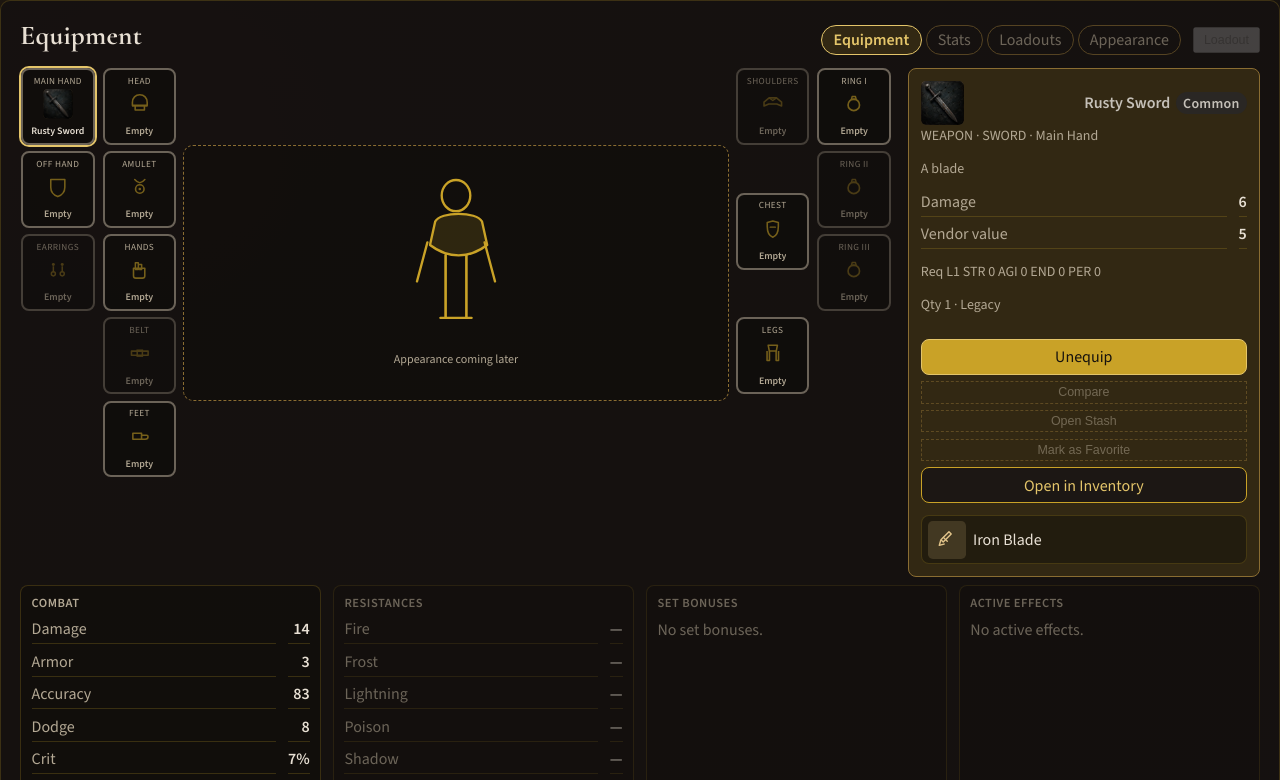
Scenario: EquipmentPanel › shows bag candidates and a locked inspector for future slots
Click the button with test id "equipment-candidate-IRON_BLADE": (947, 540) [921,515,1247,564]
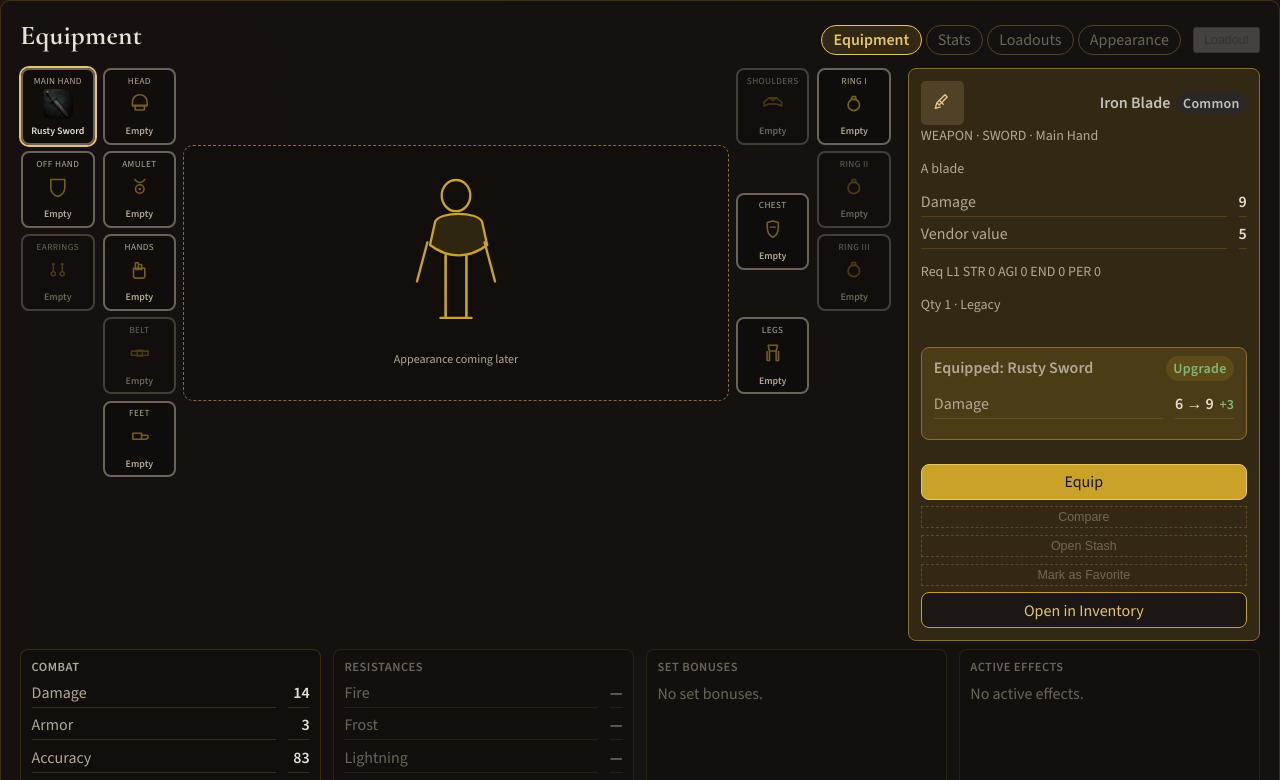
Result: the button with test id "equip-IRON_BLADE" is shown at [921,464,1247,500]
Result: the element with test id "comparison-IRON_BLADE" is shown at [921,347,1247,440]
Click the button with test id "equipment-slot-SHOULDERS": (773, 107) [736,68,809,145]
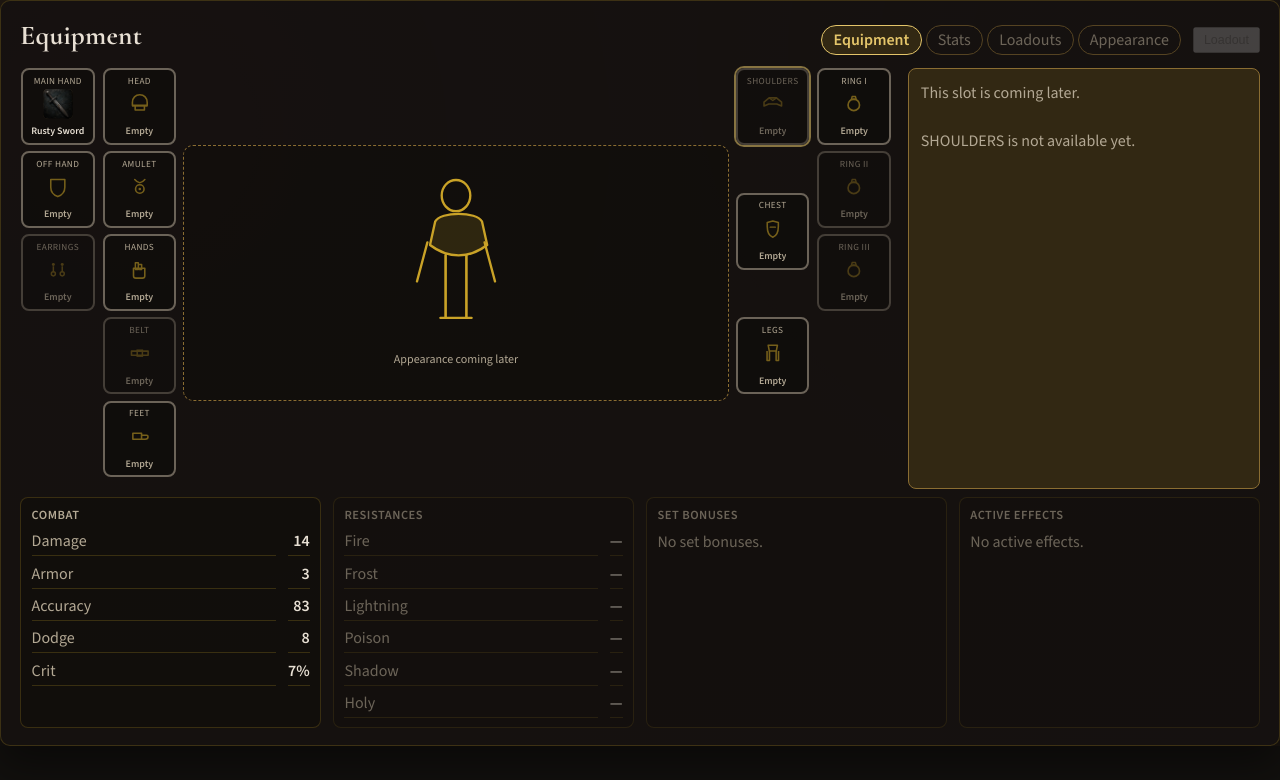
Result: the text with test id "equipment-slot-locked" reads "This slot is coming later." at [921,82,1080,103]
